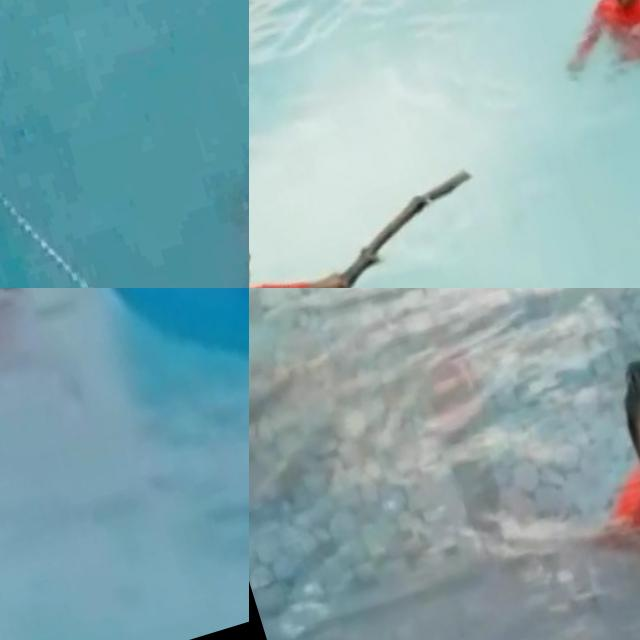drowning: (152, 79, 249, 288), (524, 0, 640, 122), (0, 288, 91, 443)
out of water: (249, 98, 530, 288)
swimming: (538, 288, 640, 637)
